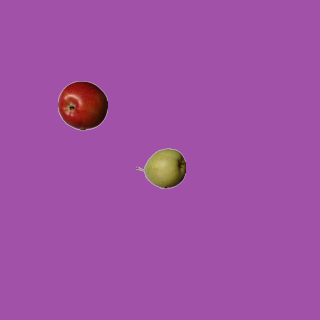Apple Braeburn: (57, 80, 107, 130)
Pear: (135, 143, 185, 193)
